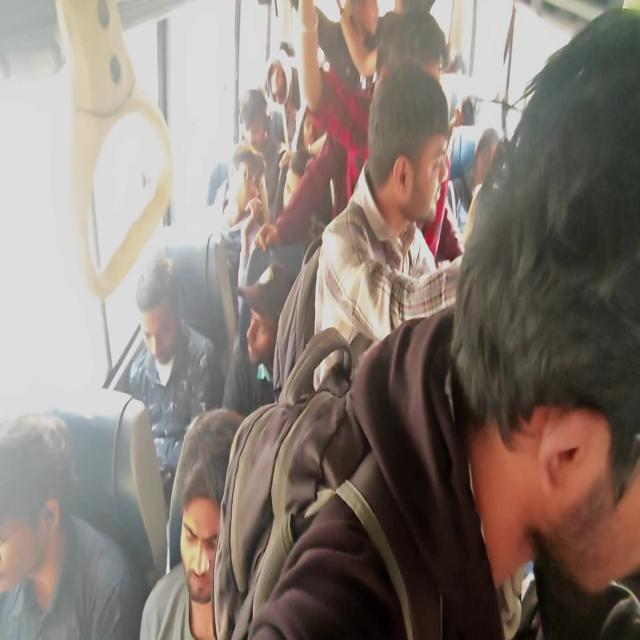person: (486, 92, 640, 640), (140, 434, 266, 596), (0, 433, 85, 608), (362, 92, 450, 233), (383, 10, 451, 109), (240, 272, 296, 363), (129, 273, 180, 350), (338, 0, 392, 65), (478, 137, 520, 218), (276, 153, 318, 214), (294, 106, 334, 164), (227, 139, 261, 206), (238, 87, 272, 141), (262, 57, 295, 107), (448, 38, 472, 76), (273, 29, 298, 56), (464, 95, 484, 123)
